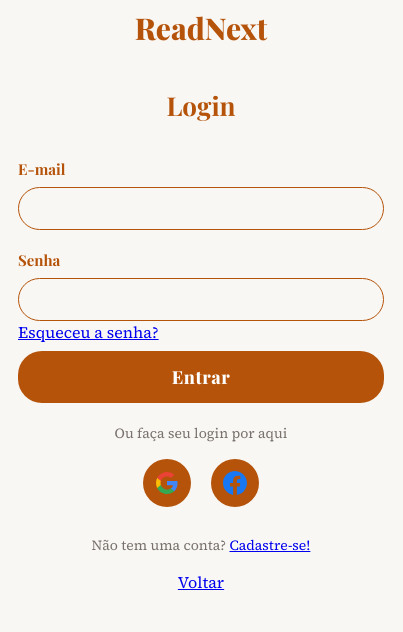
Test case: Página de Login — Validações › exibe erro quando apenas e-mail está preenchido
Step 1. Type "ana@email.com" into the field → [201, 208], box [18,187,384,230]
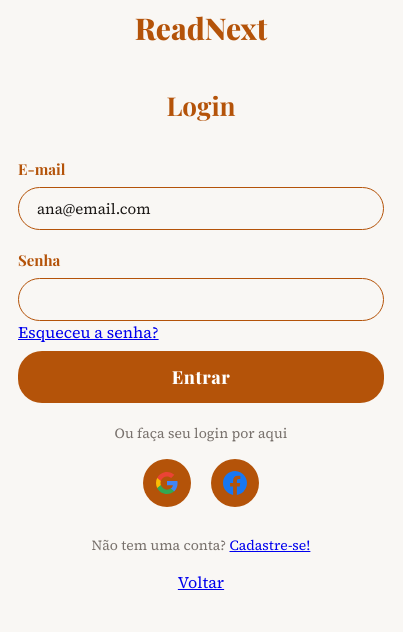
Step 2. Click the button "Entrar" → [201, 377], box [18,351,384,403]
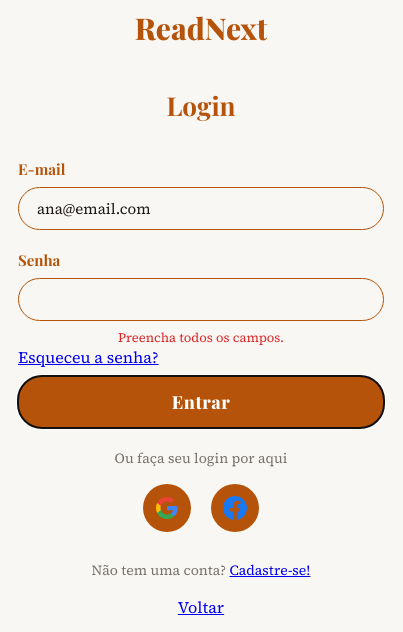
Expected: the text "Preencha todos os campos." is shown, [118,329,284,346]
